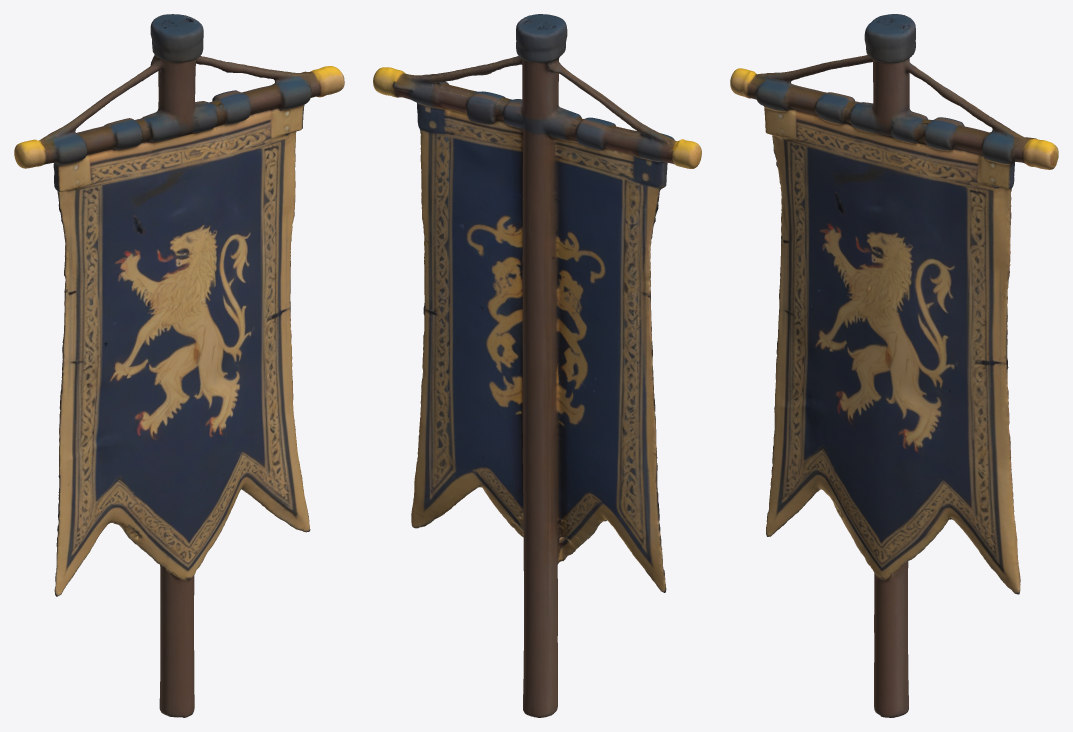
Rendered from Bandera.glb.
The picture shows the model from 3 angles, left to right: view 1: azimuth 30°, elevation 25°; view 2: azimuth 150°, elevation 25°; view 3: azimuth 330°, elevation 25°; orthographic projection.
Size of the model in its own units: 0.984 by 2 by 0.145.
1 material, 1 textured.
